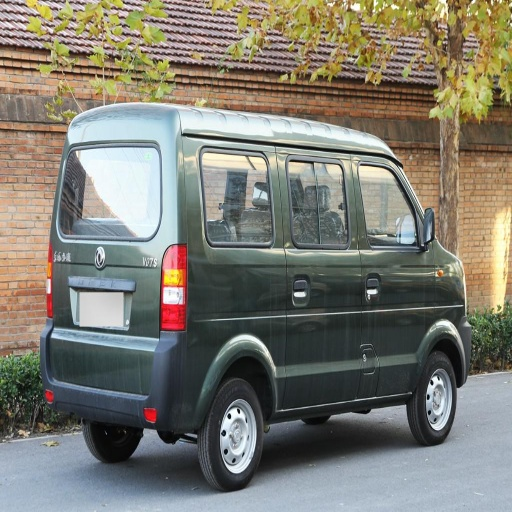back_bumper: (42, 320, 181, 426)
back_right_door: (202, 146, 355, 405)
tailgate: (54, 230, 122, 330)
trunk: (173, 262, 279, 430), (63, 233, 177, 364)
